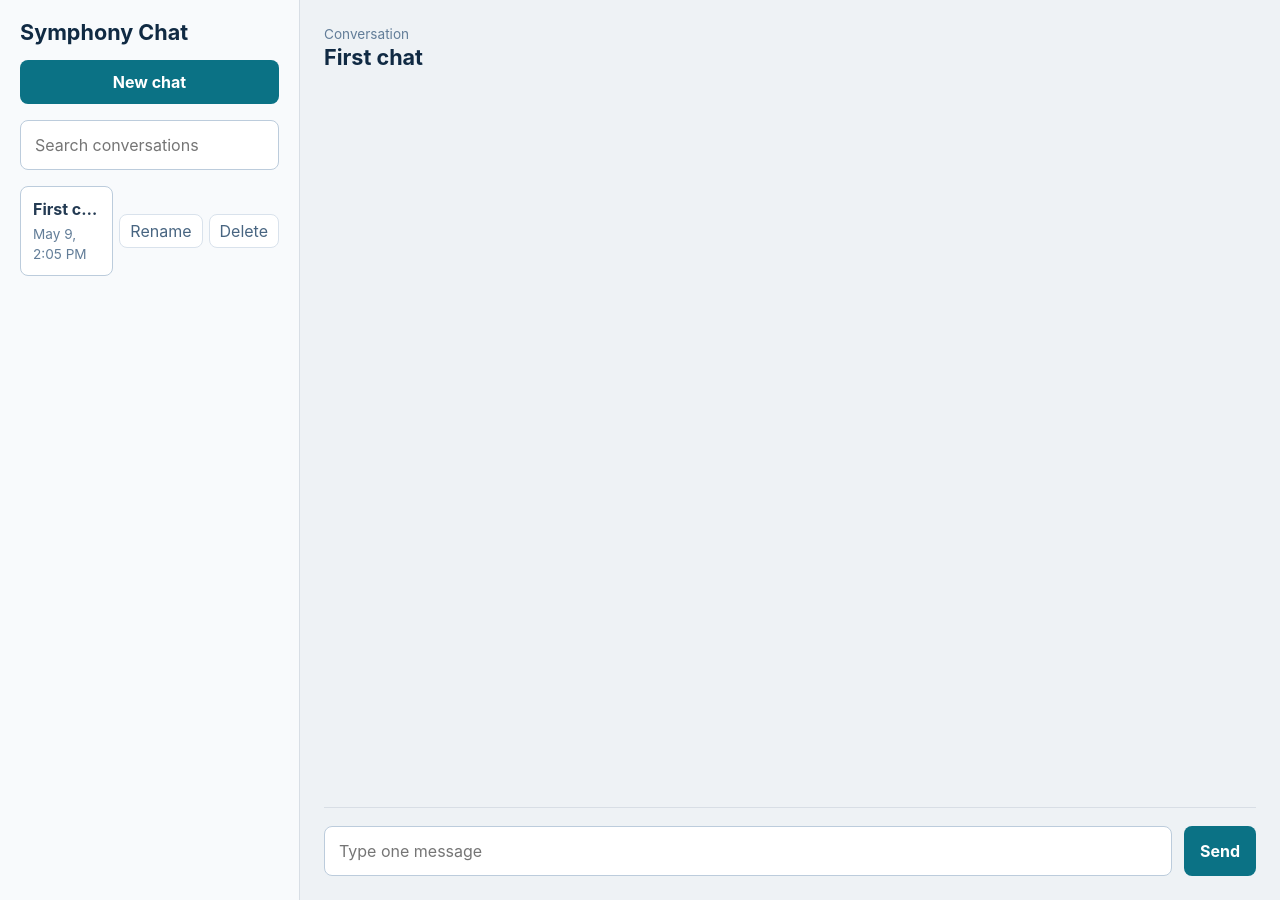
Test: App › toggles rename edit mode via the button, Escape key, and Cancel without firing a request
expect the button with aria-label "Open First chat" is shown: met, box [20,186,113,276]
Click the button with aria-label "Rename First chat" at (161, 231), box [119,214,202,248]
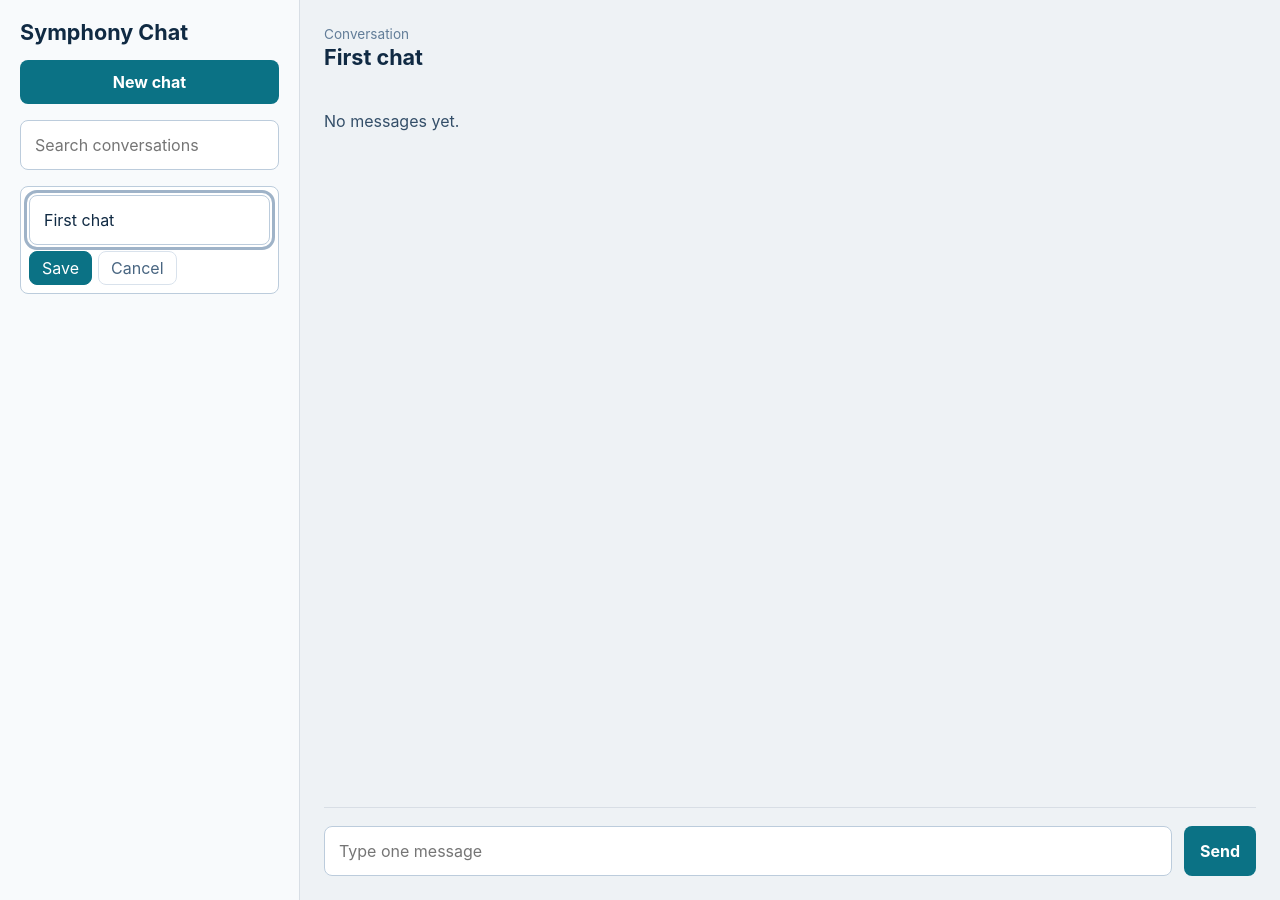
expect the field named "New title for First chat" holds "First chat": met
Press Escape in the field named "New title for First chat", box [29,195,270,245]
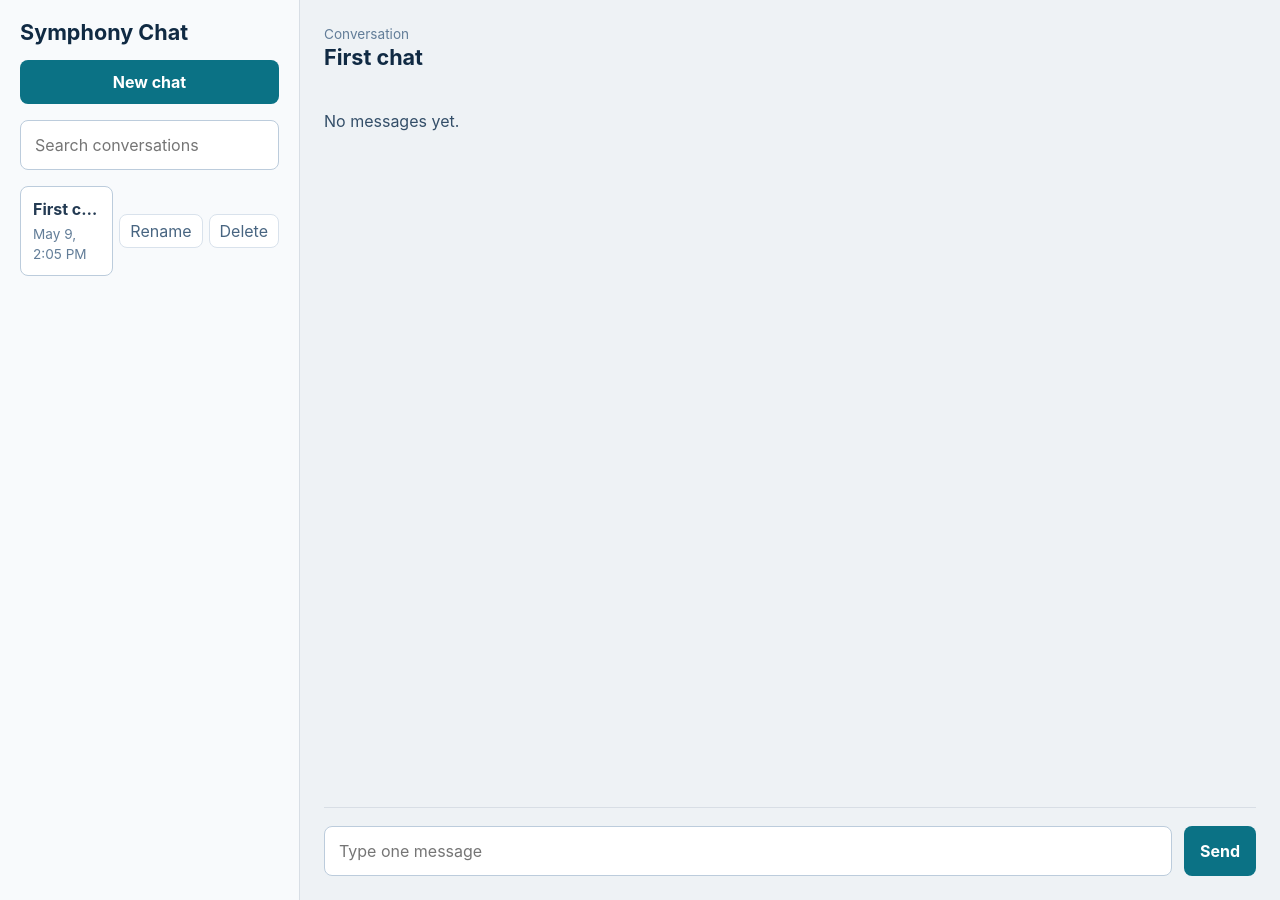
expect the field labelled "New title for First chat" is not shown: met
expect the button with aria-label "Rename First chat" is shown: met
Click the button with aria-label "Rename First chat" at (161, 231), box [119,214,202,248]
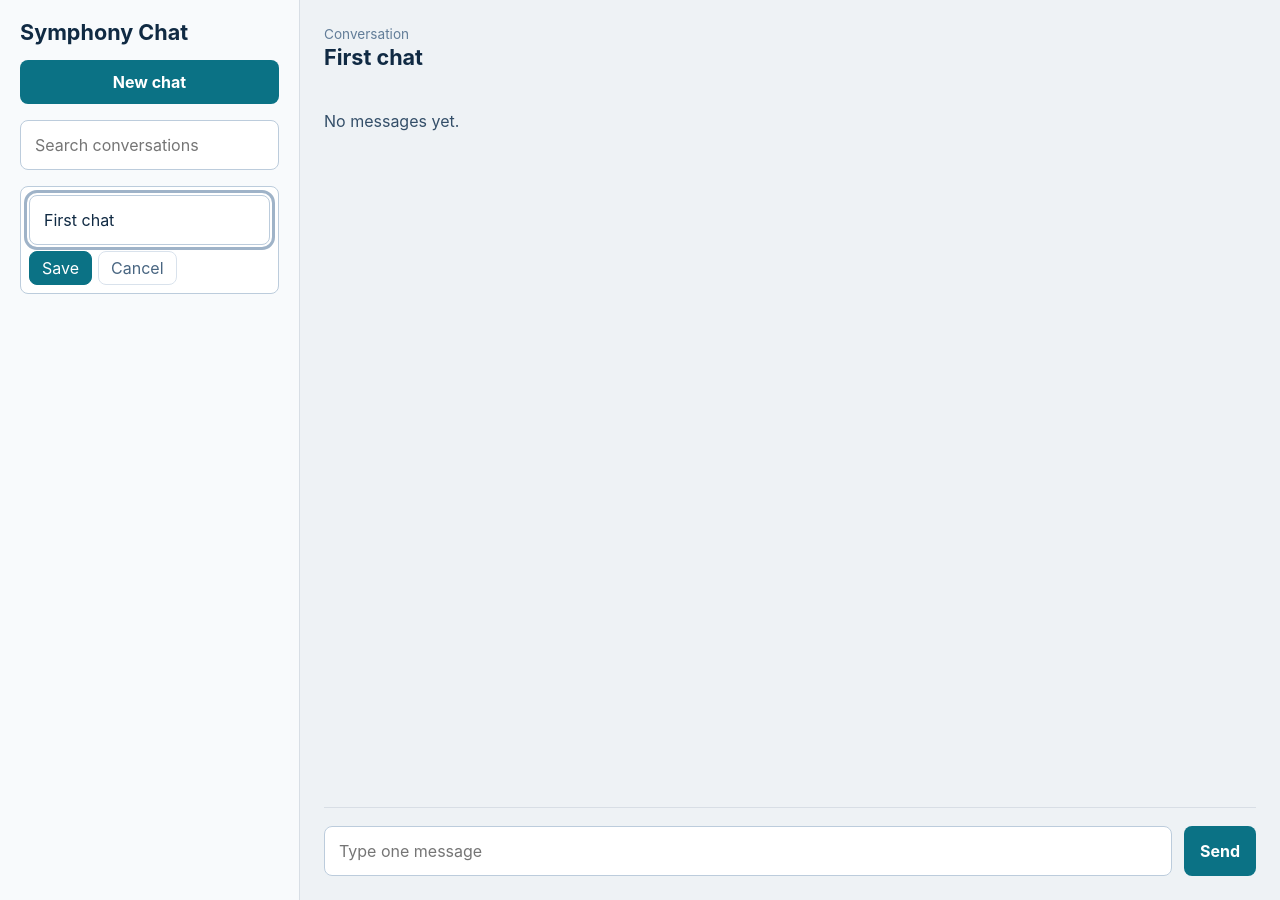
Replace the text in the field named "New title for First chat" with "something else" at (150, 220), box [29,195,270,245]
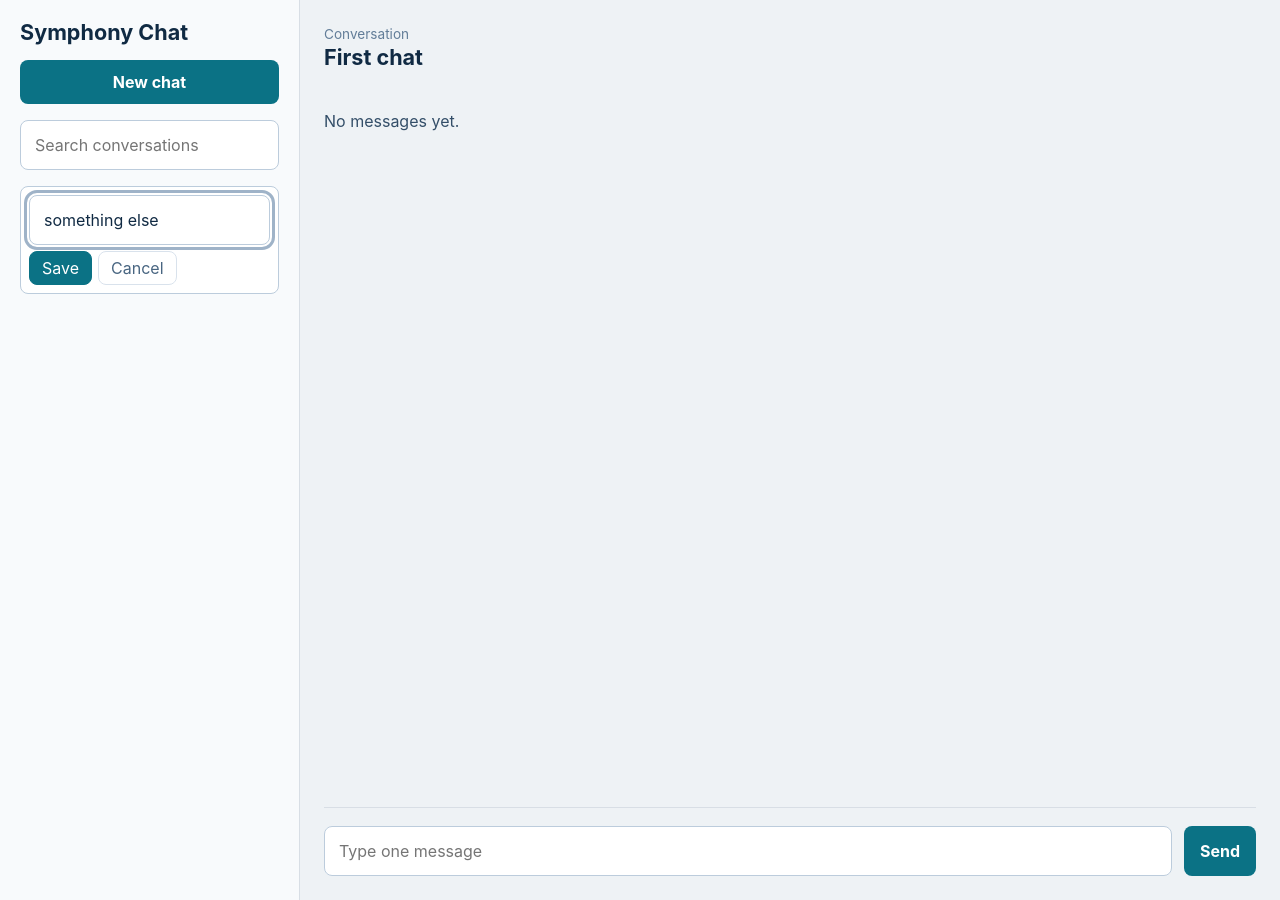
Click the button "Cancel" at (137, 268), box [98,251,176,285]
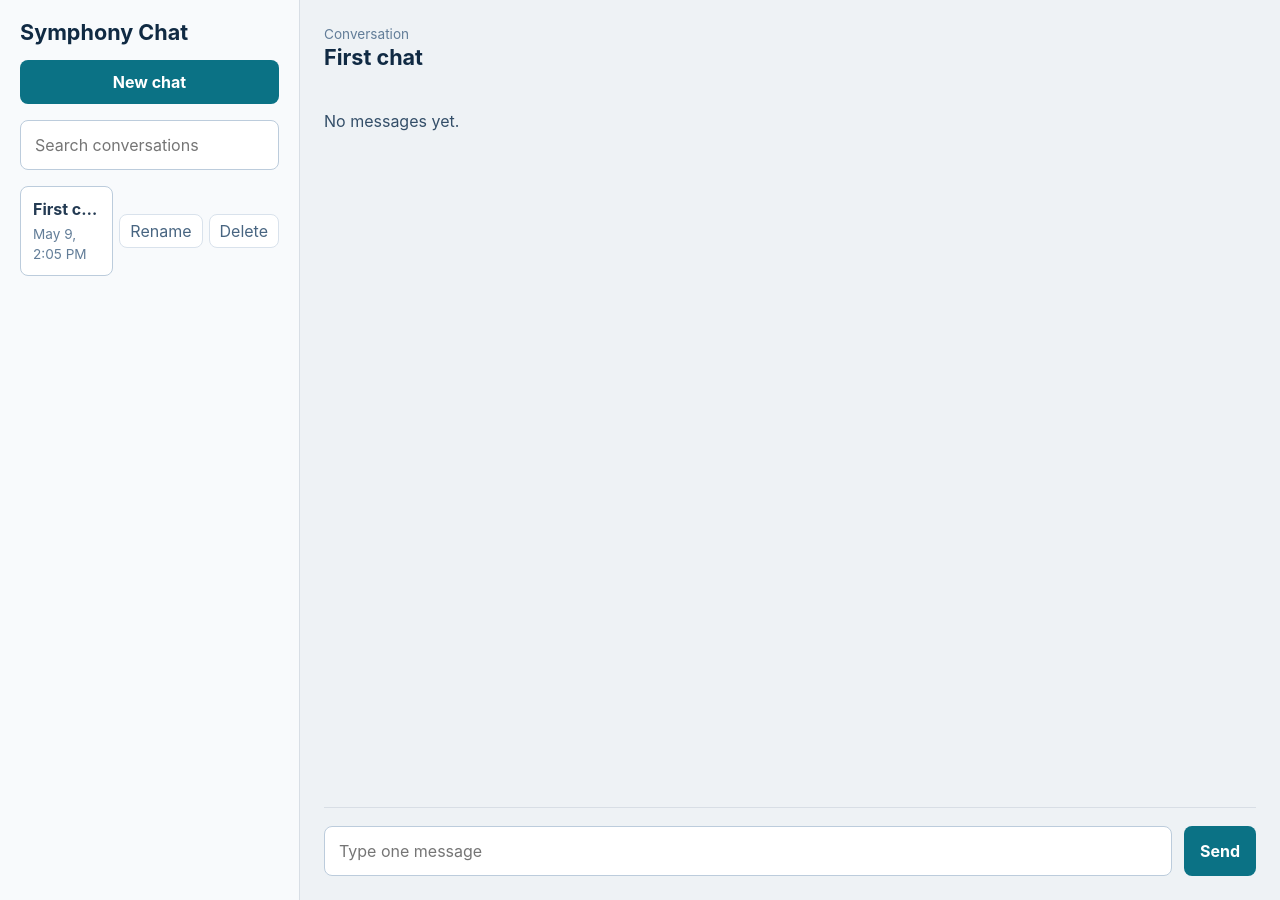
expect the field labelled "New title for First chat" is not shown: met
expect the button with aria-label "Open First chat" is shown: met, box [20,186,113,276]
